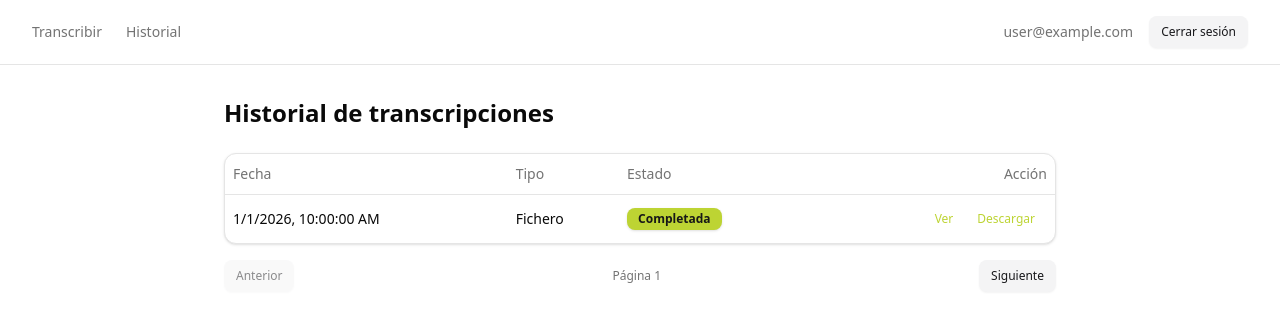
Test: HistoryPage › pagina hacia adelante y hacia atras usando el cursor
Expected: the text "Página 1" is shown, [612,268,661,284]
Click the button "Siguiente".
click(1018, 276)  # box [979,260,1056,292]
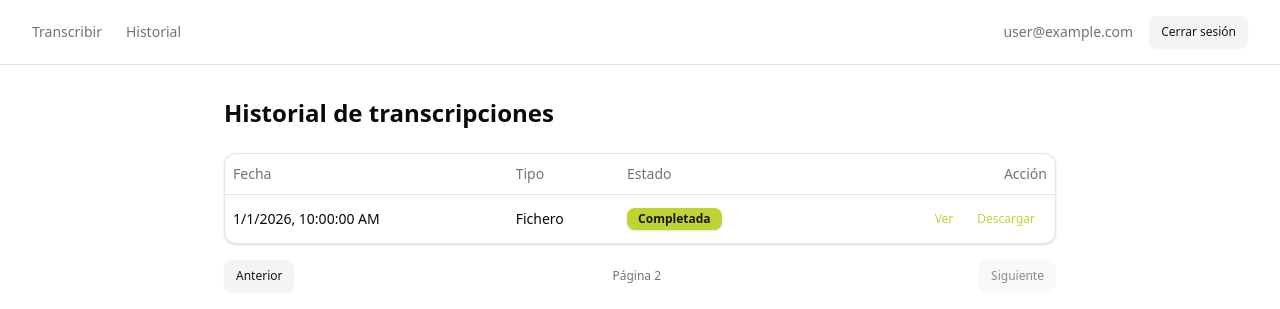
Result: the text "Página 2" is shown at [612,268,661,284]
Click the button "Anterior".
click(259, 276)  # box [224,260,294,292]
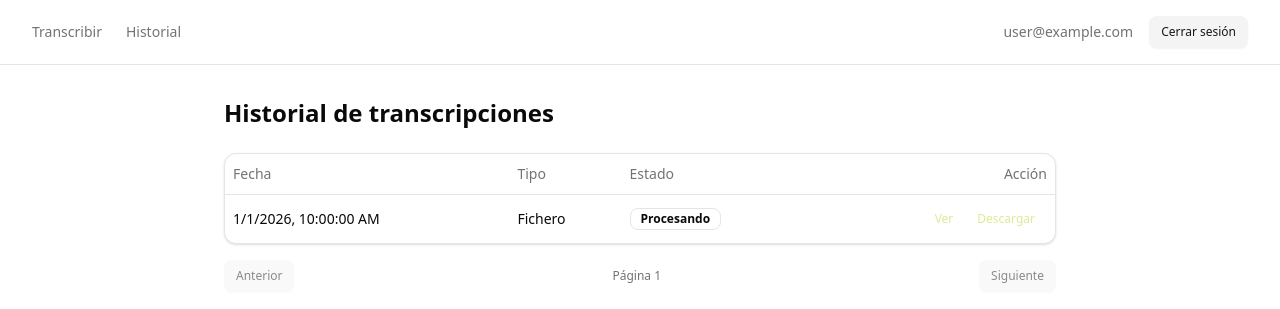
Result: the text "Página 1" is shown at [612,268,661,284]
